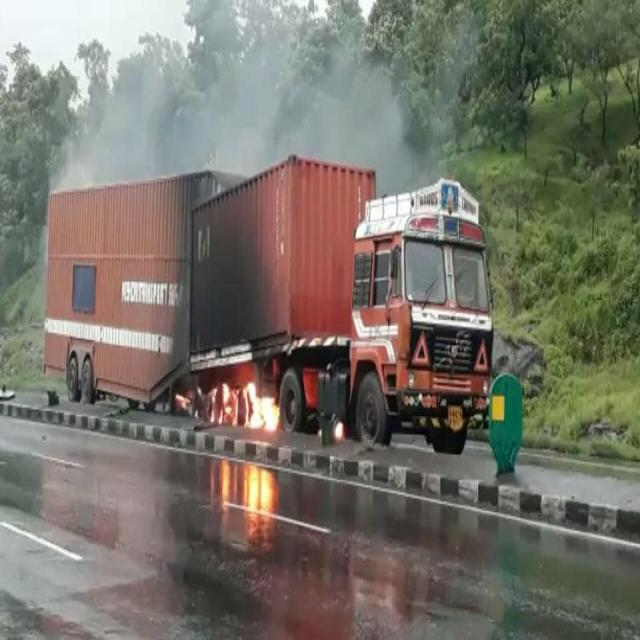accident: (190, 156, 492, 452), (44, 173, 254, 424)
